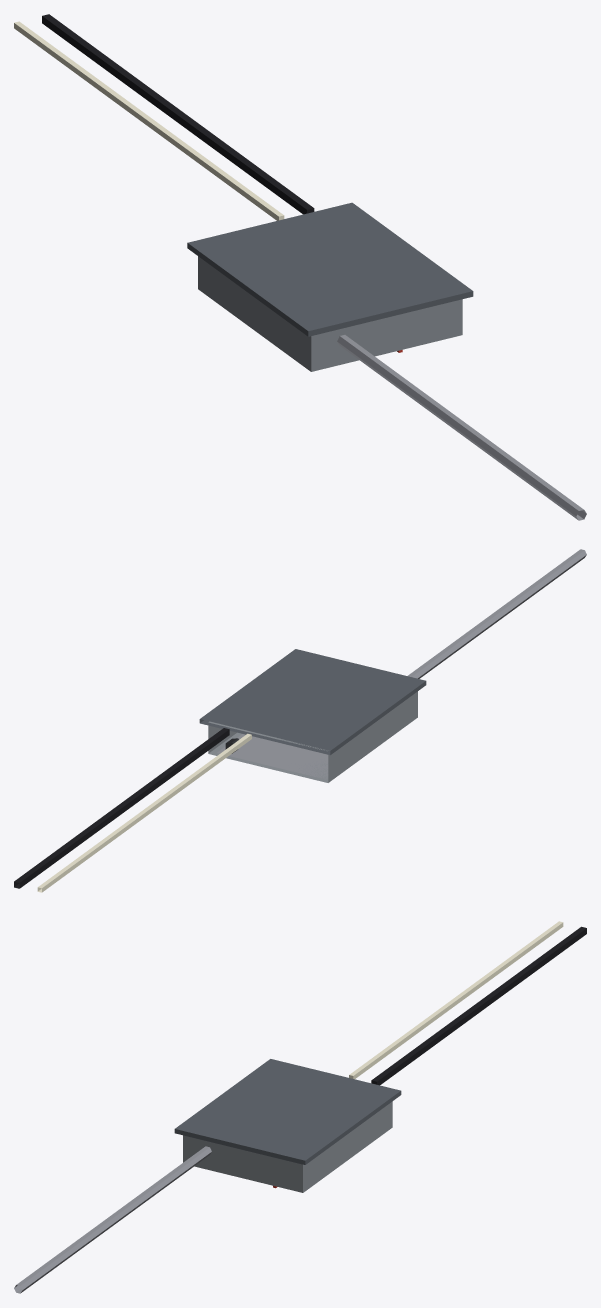
File: c_panel.obj
The picture shows the model from 3 angles, top to bottom: view 1: azimuth 30°, elevation 25°; view 2: azimuth 150°, elevation 25°; view 3: azimuth 330°, elevation 25°; orthographic projection. The views are drawn at different scales.
Size of the model in its own units: 0.37 by 0.137 by 2.43.
Materials: 1 (1 with a texture image).
